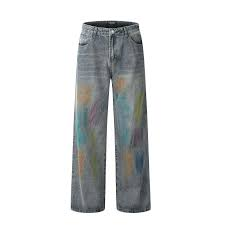earth: (77, 86, 91, 103), (76, 153, 85, 177), (124, 155, 133, 174), (115, 79, 126, 89)
